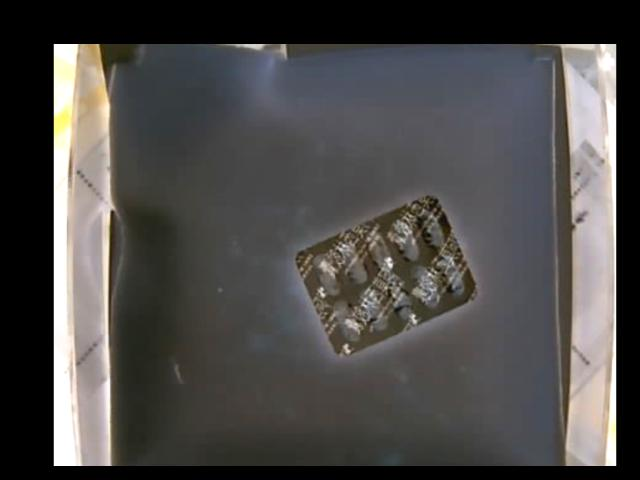Medicine: (295, 193, 476, 356)
